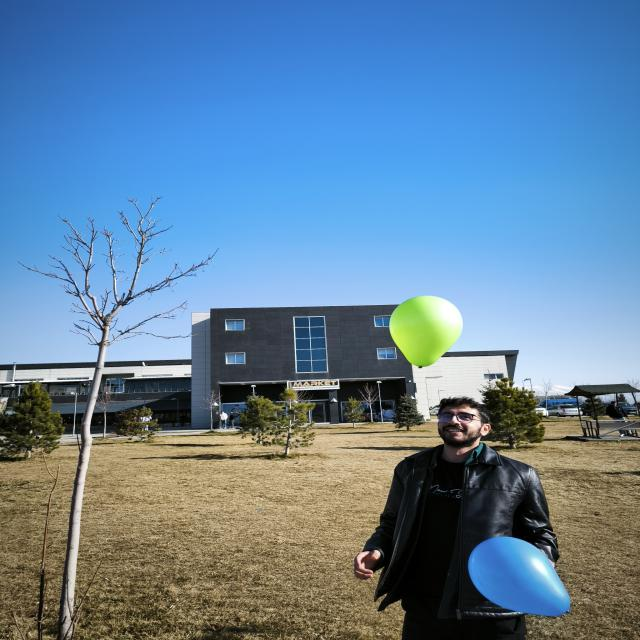balloon: (468, 537, 570, 616), (389, 296, 462, 367)
